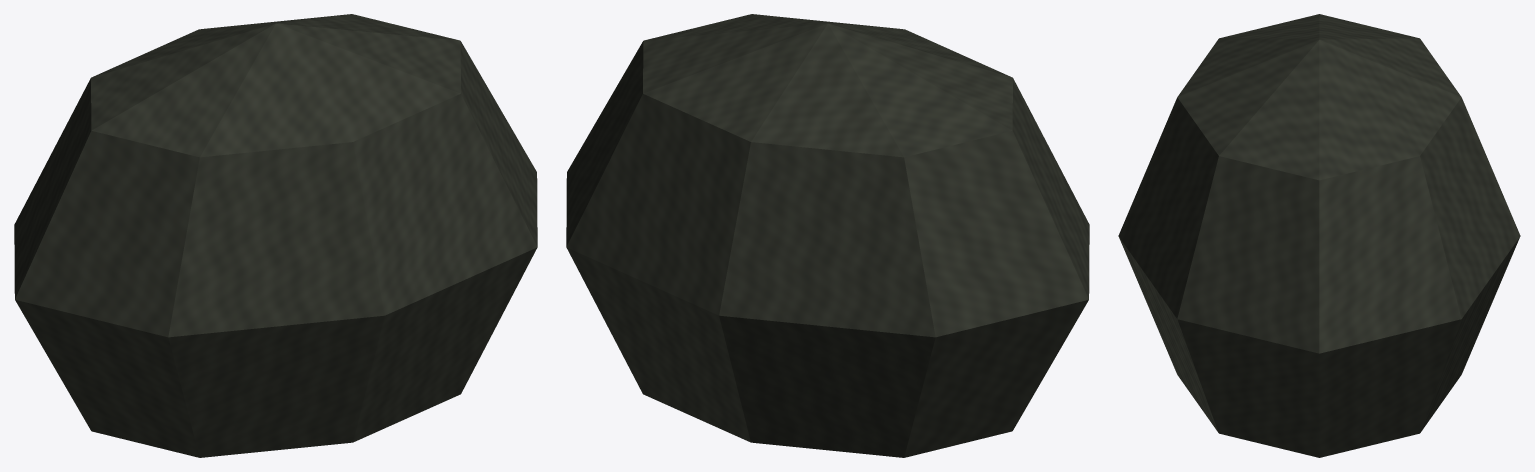
The model's file is nature_rock_01.glb.
3 renders of one model, left to right at view 1: azimuth 30°, elevation 25°; view 2: azimuth 150°, elevation 25°; view 3: azimuth 270°, elevation 25°, orthographic. The views are drawn at different scales.
Parts seen in each view (by area): view 1: rock.001; view 2: rock.001; view 3: rock.001.
Boxes of the visible parts, left/top/right/bottom form: rock.001: left=14, top=14, right=537, bottom=457; rock.001: left=566, top=14, right=1089, bottom=457; rock.001: left=1118, top=14, right=1520, bottom=457.
Bounding box in the file's own units: 1.8 × 1.4 × 1.3.
Materials: 1 (1 with a texture image).
